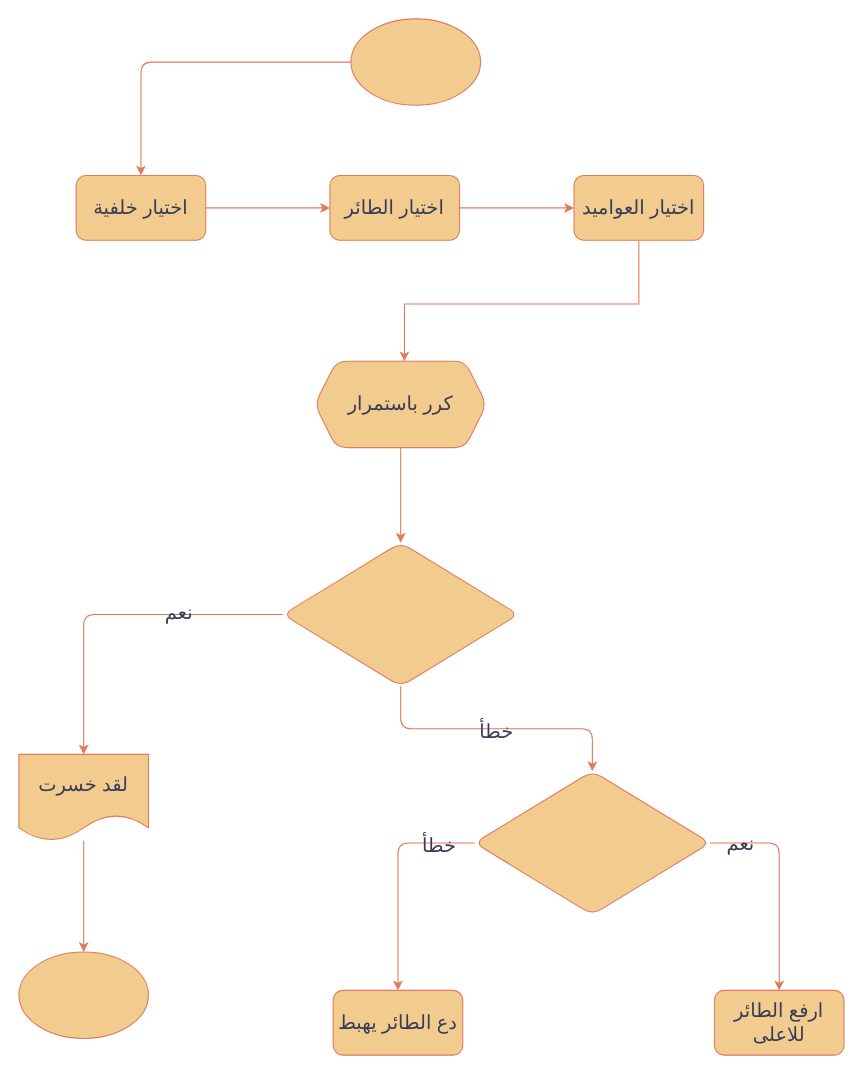
This 863x1075 diagram has some shape labels left out. The shapes that lost their labels are listed below. From the top down, each one's centre as x and y in pixels, then its label:
At pixel 415 61: "بدء البرنامج".
At pixel 400 614: "الطائر ملامس الأرض أو العمود؟".
At pixel 592 842: "زر المسافة مضغوط؟".
At pixel 83 994: "إنهاء البرنامج".
